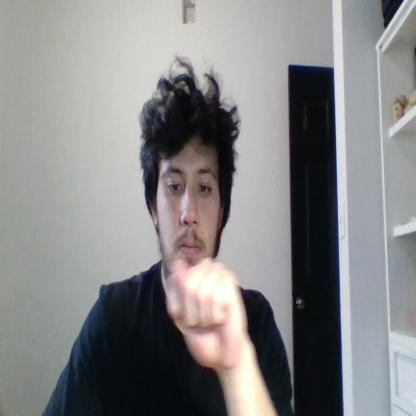T: (166, 255, 245, 368)
